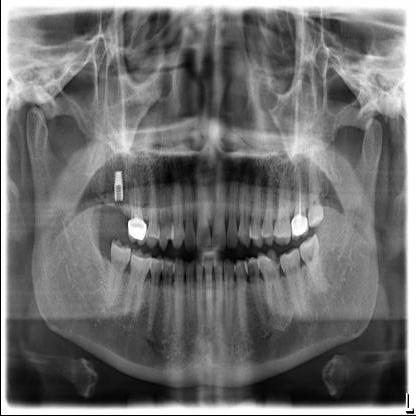Bicon: (109, 164, 126, 203)
